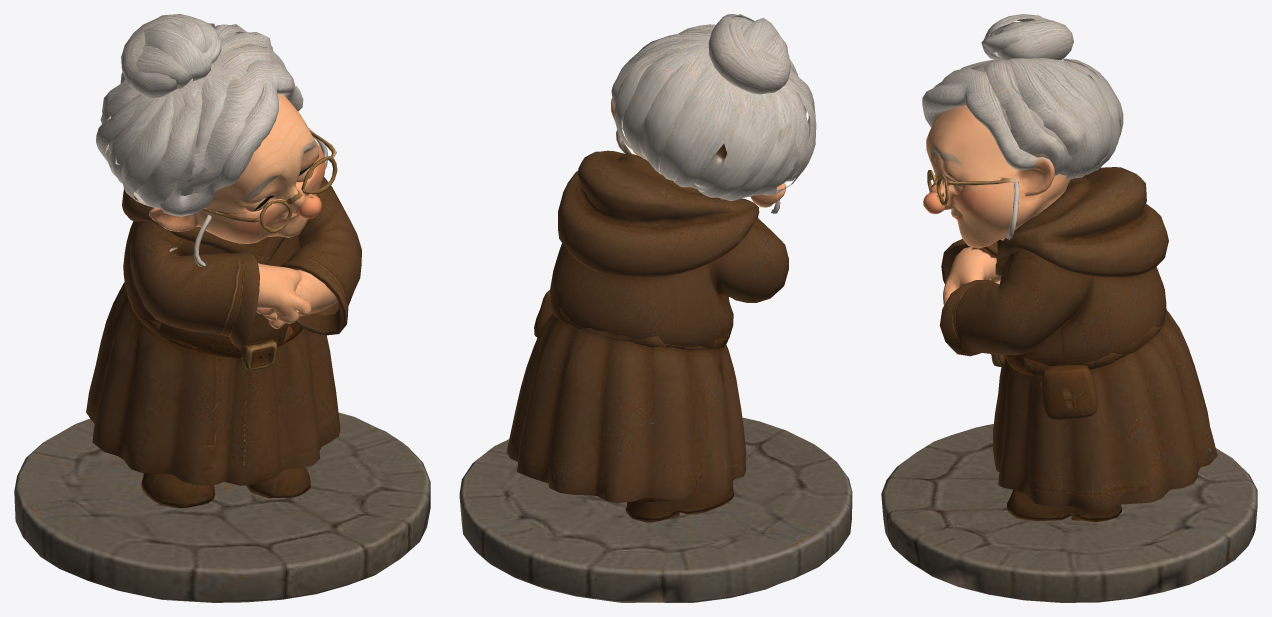
Rendered from lady_merchant_v1.glb.
The picture shows the model from 3 angles, left to right: view 1: azimuth 30°, elevation 25°; view 2: azimuth 150°, elevation 25°; view 3: azimuth 270°, elevation 25°; orthographic projection. The views are drawn at different scales.
Size of the model in its own units: 0.7168 by 1 by 0.7168.
1 material, 1 textured.
